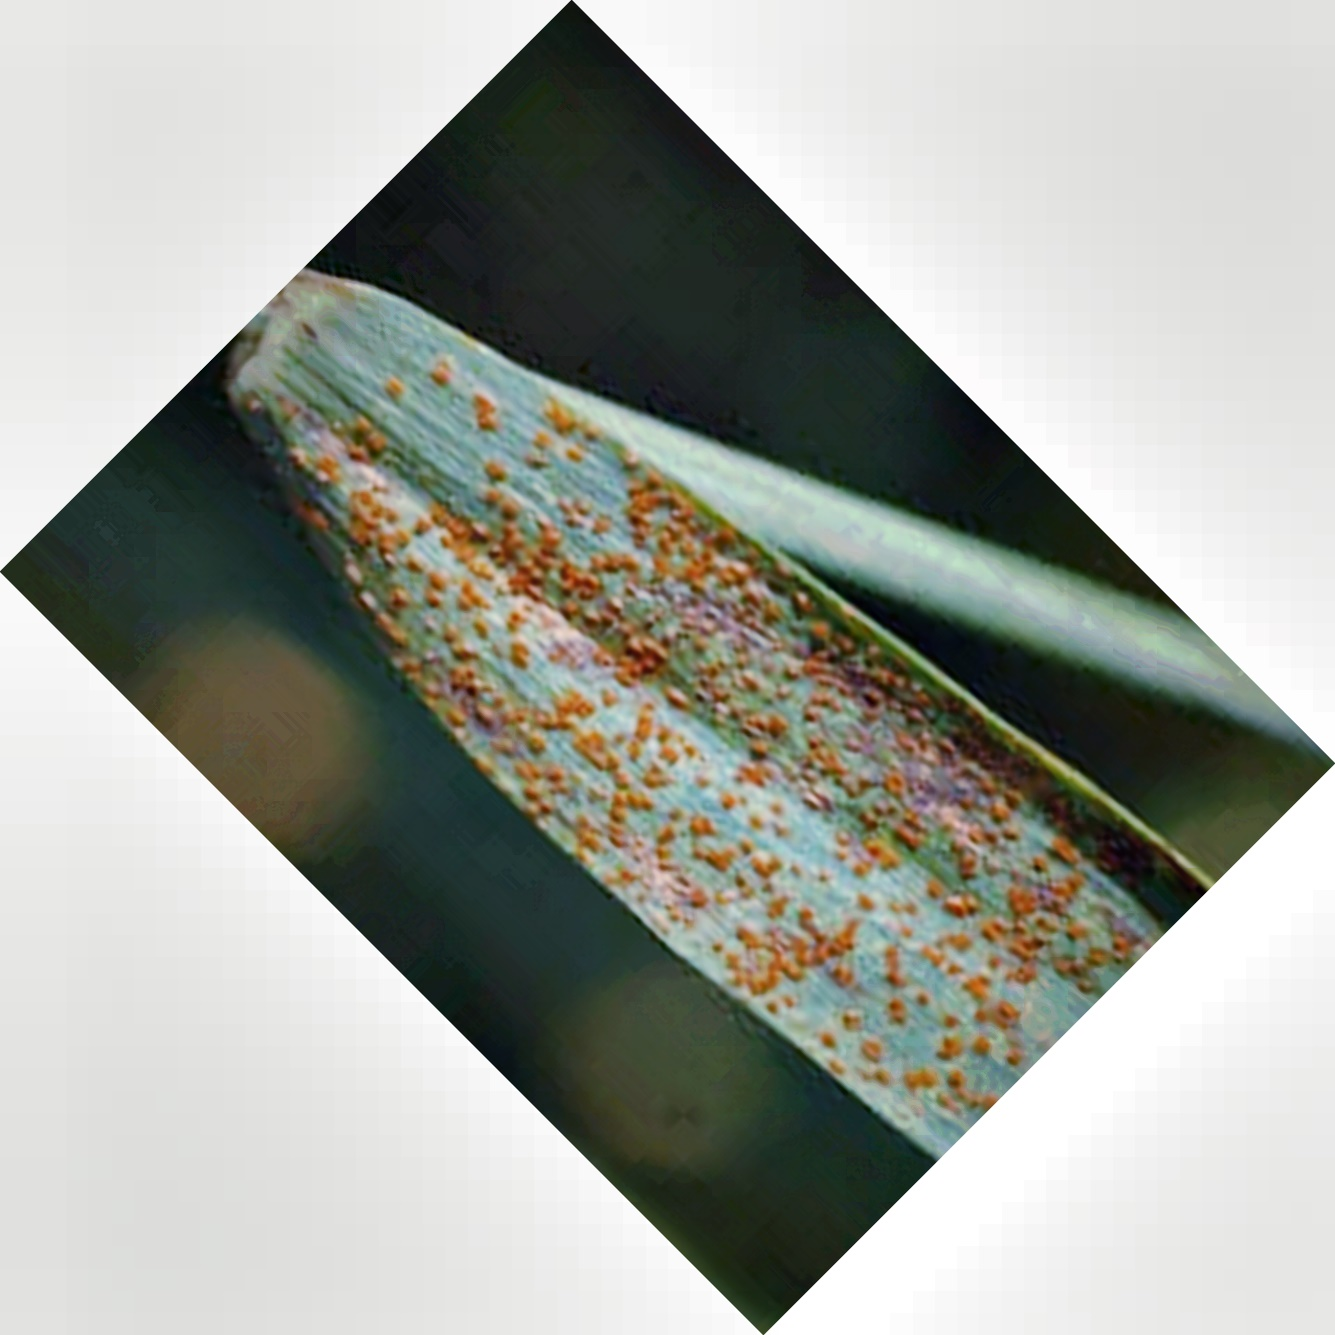Leaf Rust: (334, 388, 1105, 1135)
